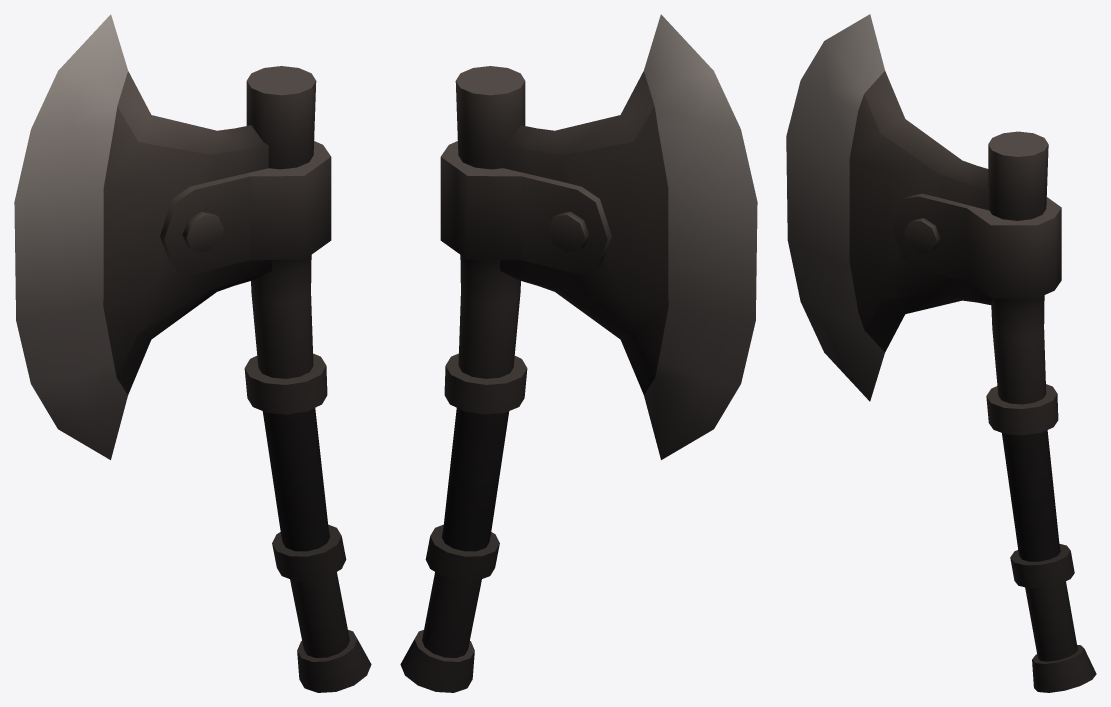
File: ma105_Weapon.FBX
3 renders of one model, left to right at view 1: azimuth 30°, elevation 25°; view 2: azimuth 150°, elevation 25°; view 3: azimuth 330°, elevation 25°, orthographic. The views are drawn at different scales.
Visible parts, largest first — view 1: ma105_Weapon; view 2: ma105_Weapon; view 3: ma105_Weapon.
Part boxes in pixels (x1,y1,x2,y2): ma105_Weapon: [14, 14, 371, 692]; ma105_Weapon: [400, 14, 757, 692]; ma105_Weapon: [786, 14, 1096, 692].
Bounding box in the file's own units: 78.38 × 154 × 21.
